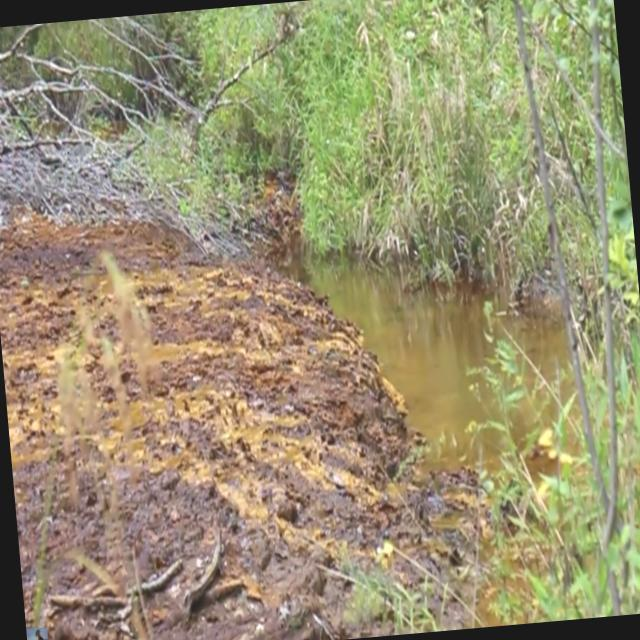yellow_boy: (286, 253, 502, 466), (491, 319, 564, 379), (442, 304, 443, 304)
